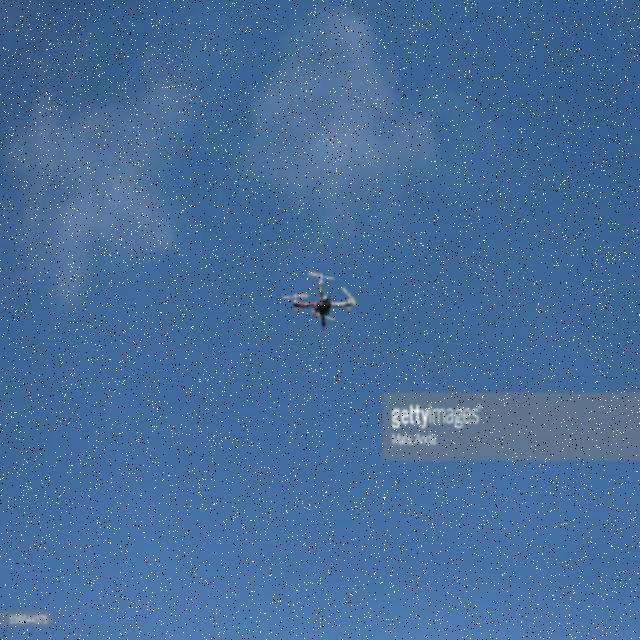UAV: (289, 268, 357, 333)
